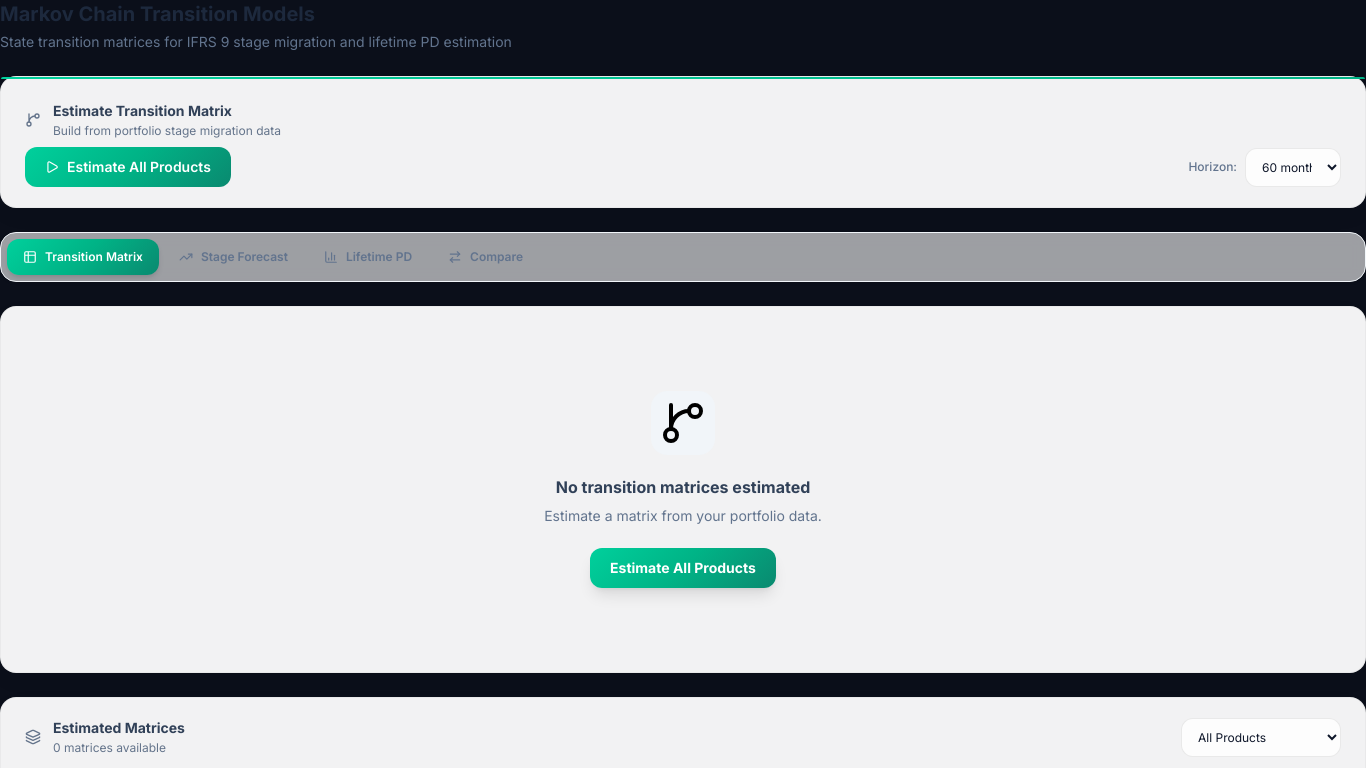
MarkovChains › switches to forecast tab
The image size is (1366, 768).
Click the button "Stage Forecast".
click(233, 257)  # box [163, 239, 304, 275]
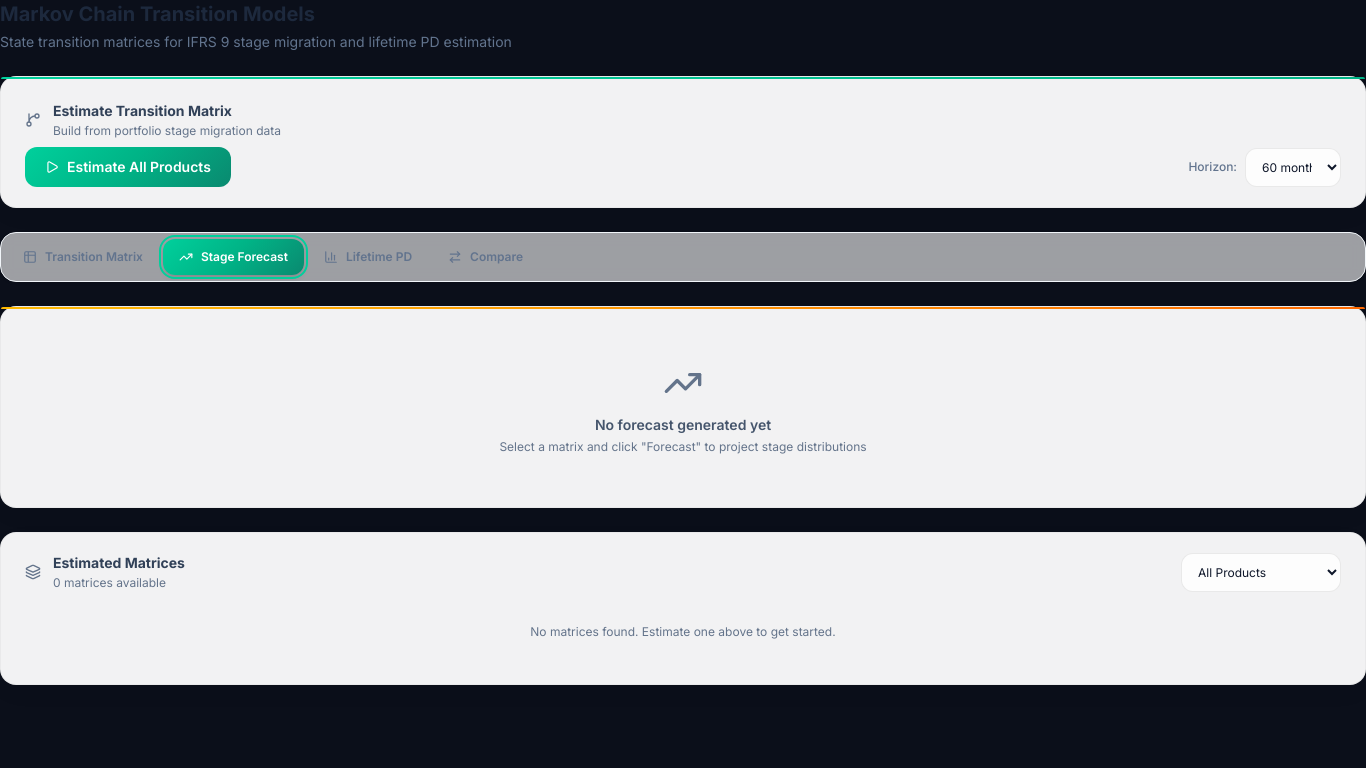
Now the text "No forecast generated yet" is shown, box [595, 416, 771, 433]
